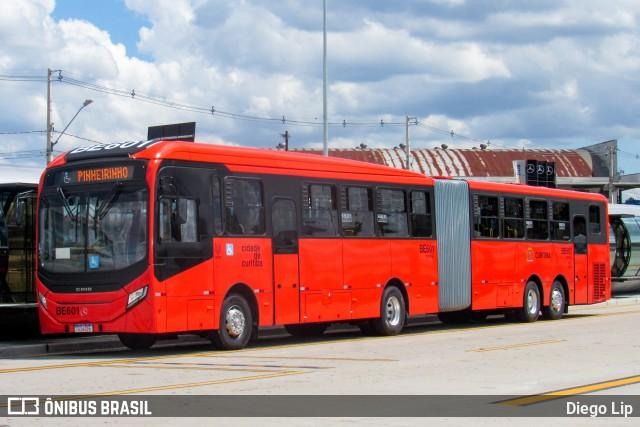PINHEIRINHO: (75, 163, 132, 185)
